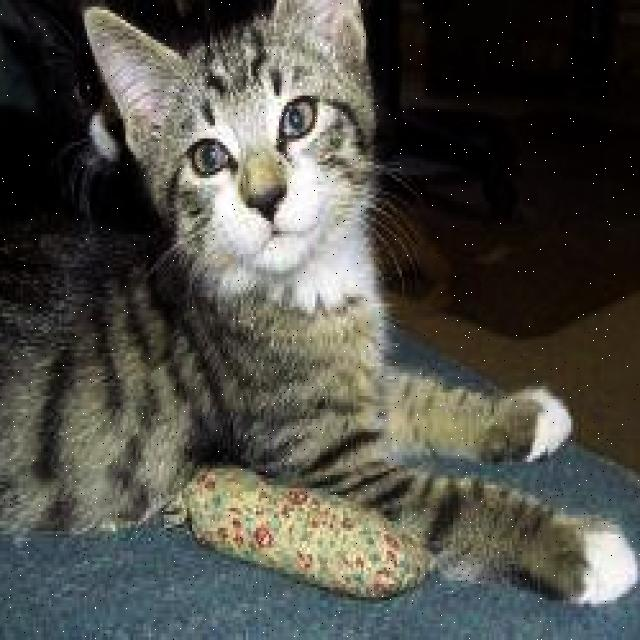Cat: (110, 0, 387, 333)
